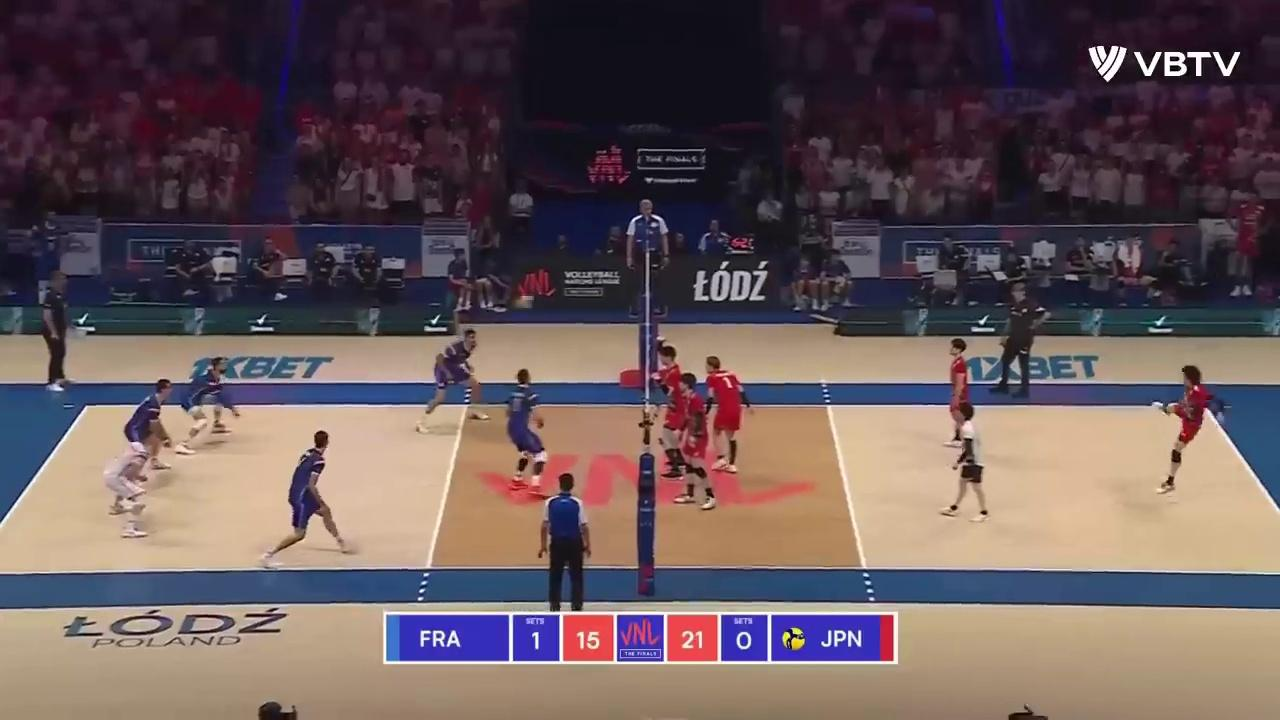ball: (515, 298, 532, 308)
